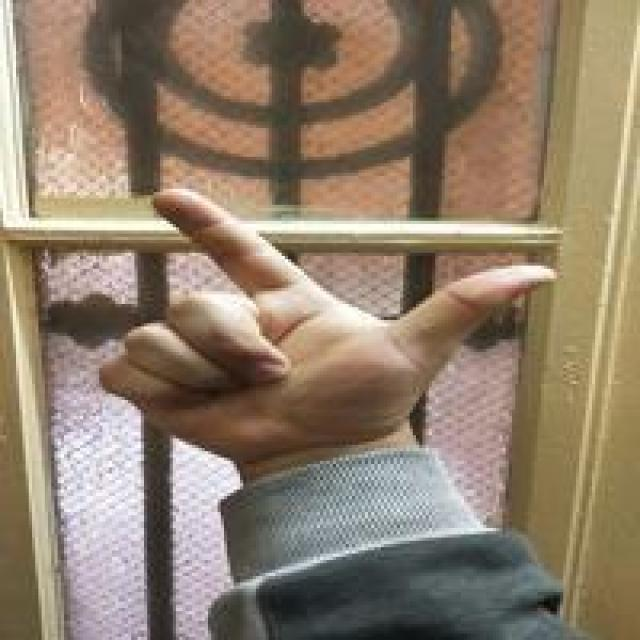L: (91, 187, 562, 437)
